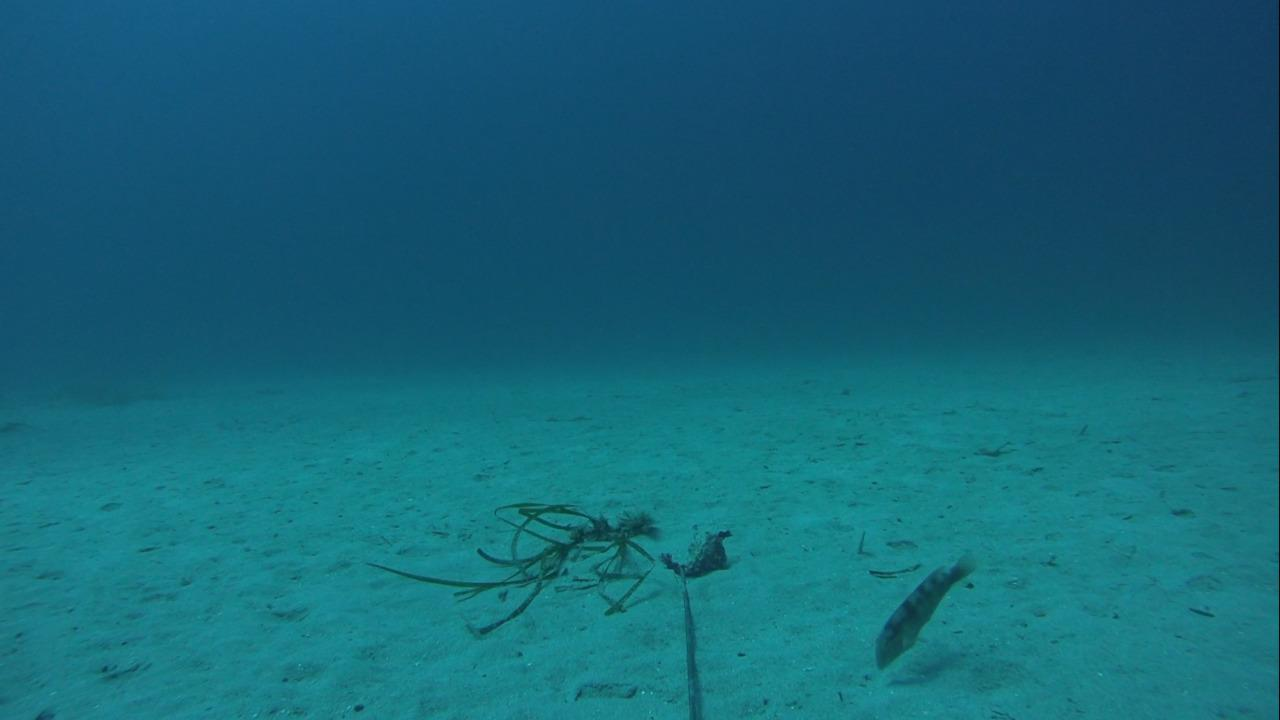raor: (872, 549, 980, 673)
